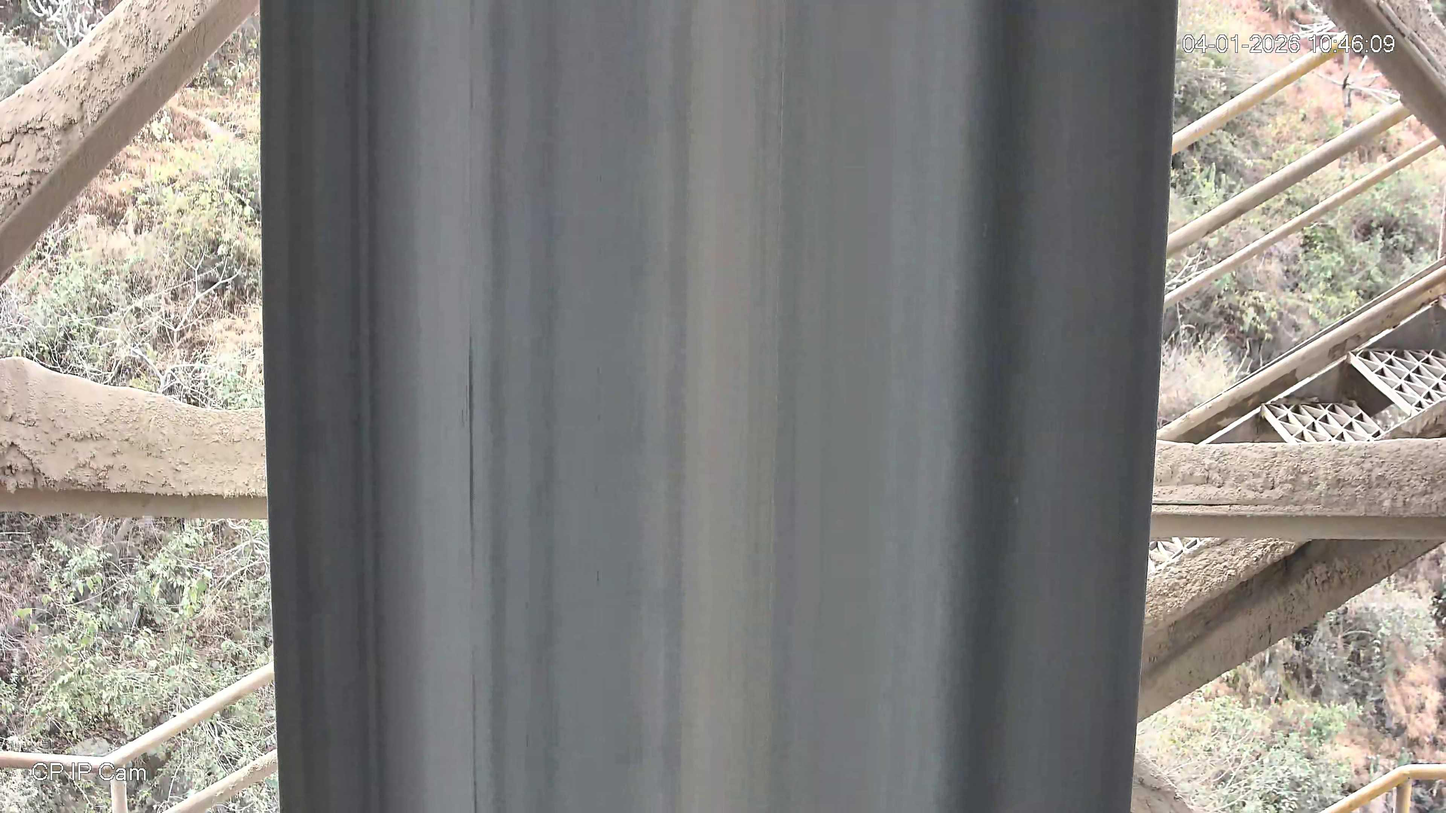belt_roi: (259, 0, 1178, 813)
